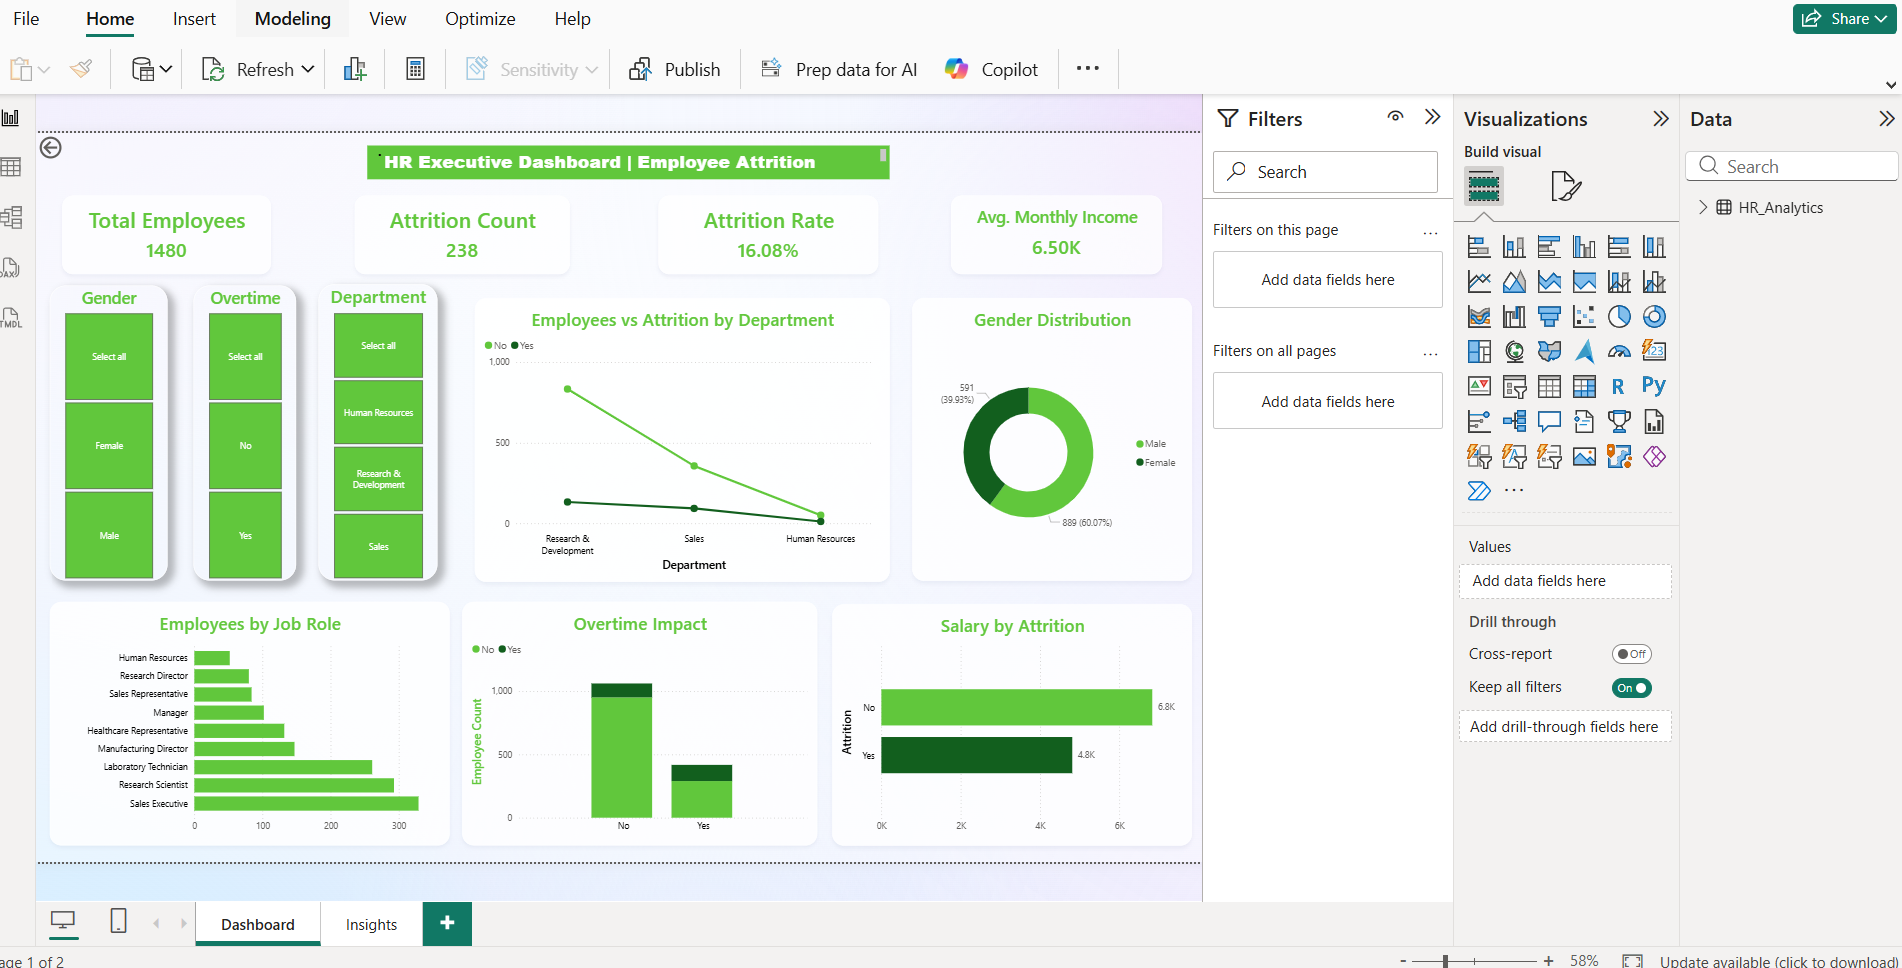

Layout of this report page (visuals, bound fields, positions):
{"tool":"powerbi","page":{"name":"DashBoard","canvas":[1600,1000],"ordinal":0},"visuals":[{"type":"textbox","box":[454.5,17.2,717,46.3],"z":0},{"type":"card","title":"Total Employees","fields":{"Values":["CountNonNull(HR_Analytics.EmpID)"]},"box":[36,85.8,286.5,108.1],"z":1},{"type":"card","title":"Attrition Rate","fields":{"Values":["HR_Analytics.Attrition Rate"]},"box":[854.2,85.8,301.9,108.1],"z":3},{"type":"card","title":"Attrition Count","fields":{"Values":["CountNonNull(HR_Analytics.EmpID)"]},"box":[437.4,85.8,295,108.1],"z":4},{"type":"card","title":"Avg. Monthly Income","fields":{"Values":["Avg(HR_Analytics.MonthlyIncome)"]},"box":[1255.6,85.8,289.9,108.1],"z":5},{"type":"columnChart","title":"Overtime Impact","fields":{"Y":["CountNonNull(HR_Analytics.EmpID)"],"Category":["HR_Analytics.OverTime"],"Series":["HR_Analytics.Attrition"]},"box":[584.9,643.2,487.1,334.5],"z":6},{"type":"clusteredBarChart","title":"Salary by Attrition","fields":{"Category":["HR_Analytics.Attrition"],"Y":["Avg(HR_Analytics.MonthlyIncome)"]},"box":[1092.6,646.7,494,331],"z":7},{"type":"donutChart","title":"Gender Distribution","fields":{"Category":["HR_Analytics.Gender"],"Y":["CountNonNull(HR_Analytics.MaritalStatus)"]},"box":[1202.4,226.4,384.2,387.7],"z":8},{"type":"barChart","title":"Employees by Job Role","fields":{"Category":["HR_Analytics.JobRole"],"Y":["CountNonNull(HR_Analytics.AgeGroup)"]},"box":[18.9,643.2,548.9,334.5],"z":9},{"type":"slicer","title":"Department","fields":{"Values":["HR_Analytics.Department"]},"box":[387.7,207.5,163,406.5],"z":10},{"type":"slicer","title":"Gender","fields":{"Values":["HR_Analytics.Gender"]},"box":[18.9,209.3,161.2,404.8],"z":11},{"type":"actionButton","box":[0,0,100,40],"z":12},{"type":"slicer","title":"Overtime ","fields":{"Values":["HR_Analytics.OverTime"]},"box":[216.1,209.3,140.7,404.8],"z":13},{"type":"lineChart","title":"Employees vs Attrition by Department","fields":{"Category":["HR_Analytics.Department"],"Y":["CountNonNull(HR_Analytics.EmpID)"],"Series":["HR_Analytics.Attrition"]},"box":[602.1,226.4,569.5,389.4],"z":14}]}

Visuals, with their boxes on the page's 1600x1000 design canvas (x1, y1, x2, y2). These are canvas units, not pixel positions in the 1902x968 screenshot, which may show the page scaled, cropped or inside an application window:
textbox: (left=454, top=17, right=1172, bottom=64)
"Total Employees" card: (left=36, top=86, right=322, bottom=194)
"Attrition Rate" card: (left=854, top=86, right=1156, bottom=194)
"Attrition Count" card: (left=437, top=86, right=732, bottom=194)
"Avg. Monthly Income" card: (left=1256, top=86, right=1546, bottom=194)
"Overtime Impact" columnChart: (left=585, top=643, right=1072, bottom=978)
"Salary by Attrition" clusteredBarChart: (left=1093, top=647, right=1587, bottom=978)
"Gender Distribution" donutChart: (left=1202, top=226, right=1587, bottom=614)
"Employees by Job Role" barChart: (left=19, top=643, right=568, bottom=978)
"Department" slicer: (left=388, top=208, right=551, bottom=614)
"Gender" slicer: (left=19, top=209, right=180, bottom=614)
actionButton: (left=0, top=0, right=100, bottom=40)
"Overtime " slicer: (left=216, top=209, right=357, bottom=614)
"Employees vs Attrition by Department" lineChart: (left=602, top=226, right=1172, bottom=616)
